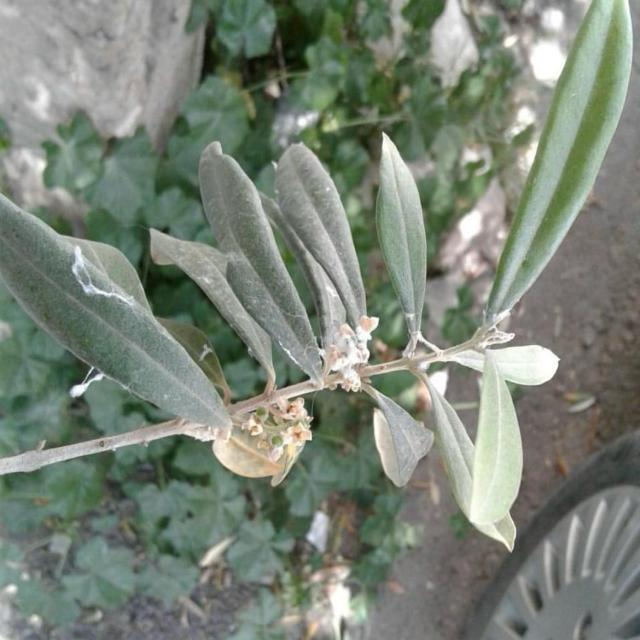Psyllid: (61, 236, 152, 319), (231, 397, 313, 466), (320, 315, 379, 392), (465, 308, 515, 358), (402, 314, 442, 358)
